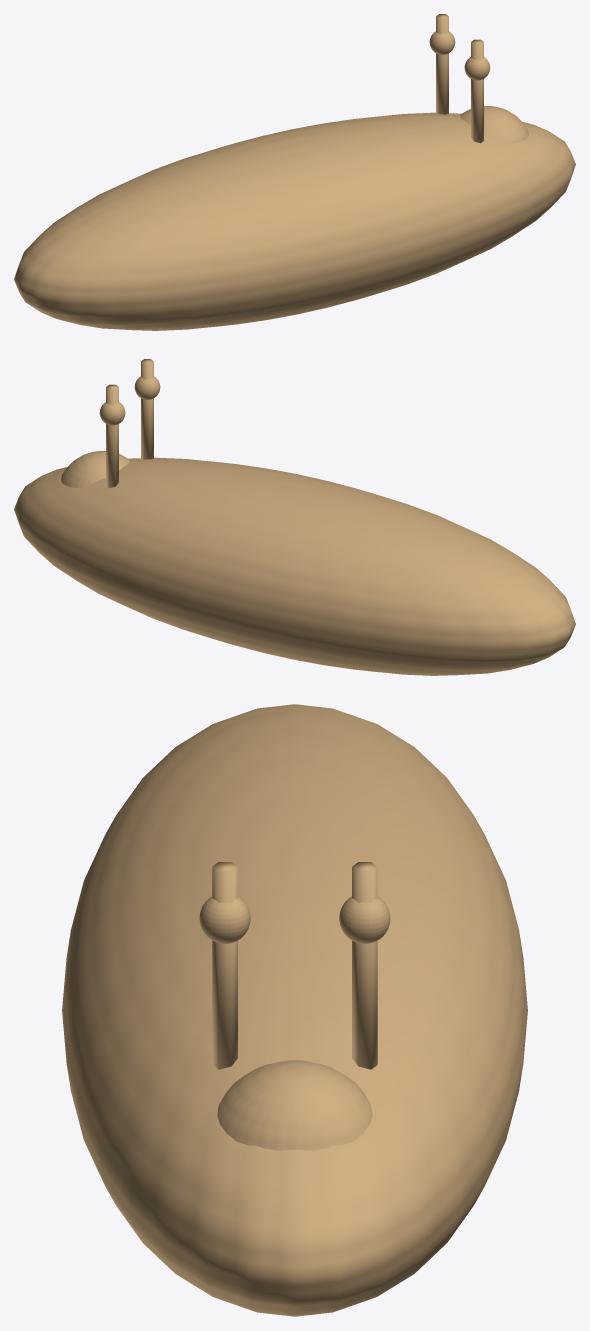
The model's file is tar_slug_01.glb.
3 views of the same model, one above another, from view 1: azimuth 30°, elevation 25°; view 2: azimuth 150°, elevation 25°; view 3: azimuth 270°, elevation 25° (orthographic). The views are drawn at different scales.
Parts seen in each view (by area): view 1: tar_slug_01; view 2: tar_slug_01; view 3: tar_slug_01.
Boxes of the visible parts, <box> form: tar_slug_01: <box>14,14,575,330</box>; tar_slug_01: <box>14,359,575,675</box>; tar_slug_01: <box>62,704,527,1316</box>.
Bounding box in the file's own units: 4.95 × 1.96 × 1.82.
